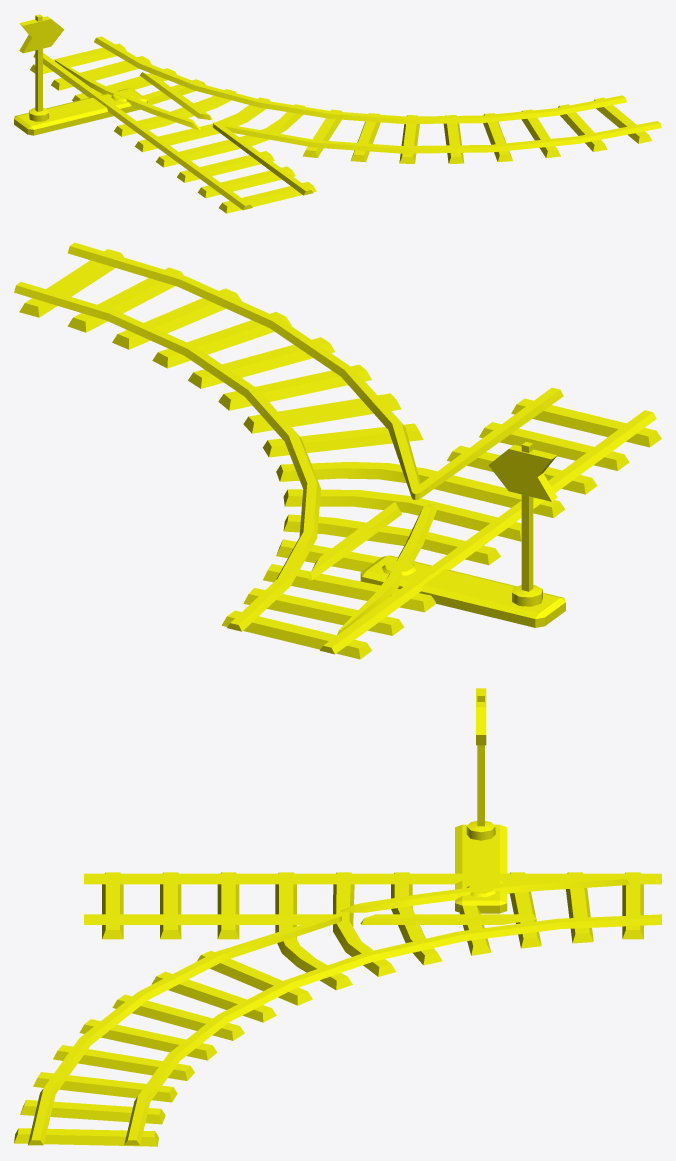
File: kaykit-tracks-split-left.glb
3 renders of one model, top to bottom at view 1: azimuth 30°, elevation 25°; view 2: azimuth 150°, elevation 25°; view 3: azimuth 270°, elevation 25°, orthographic. The views are drawn at different scales.
Visible parts, largest first — view 1: tracks_split_left; view 2: tracks_split_left; view 3: tracks_split_left.
Boxes of the visible parts, x1,y1,x2,y2 form: tracks_split_left: (14,14,661,213); tracks_split_left: (14,242,661,659); tracks_split_left: (14,688,661,1146).
Size of the model in its own units: 2.62 by 0.5749 by 2.24.
